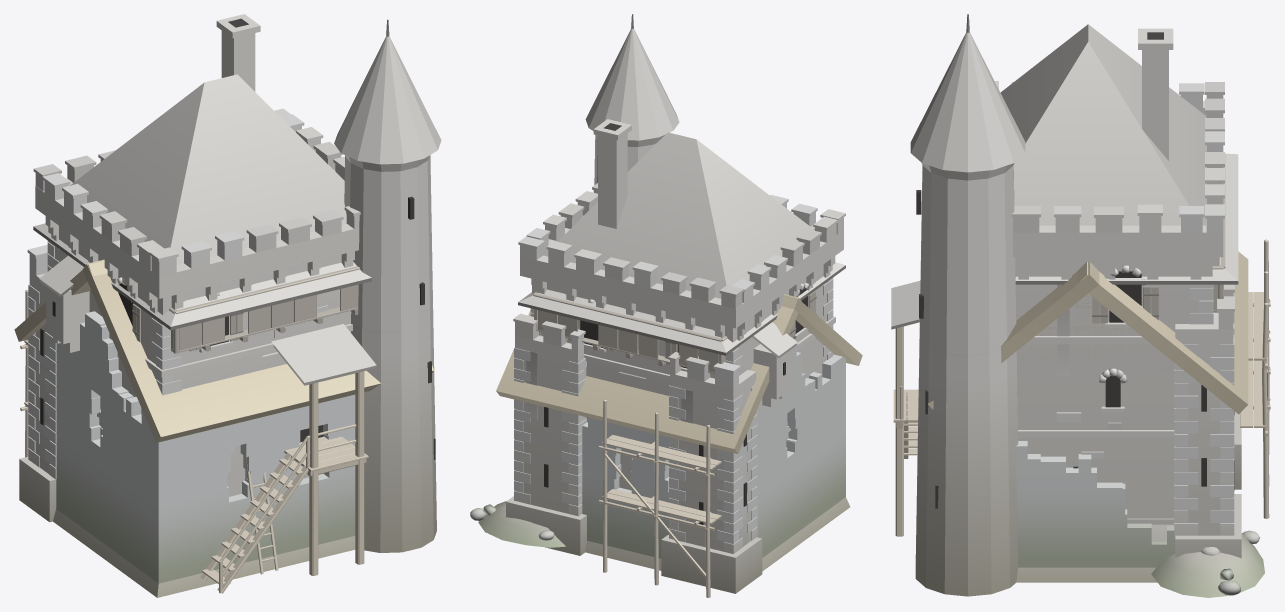
Rendered from castle_kit.glb.
3 renders of one model, left to right at view 1: azimuth 30°, elevation 25°; view 2: azimuth 150°, elevation 25°; view 3: azimuth 270°, elevation 25°, orthographic. The views are drawn at different scales.
Visible parts, largest first — view 1: ck_keep_t2, ck_keep_t1, ck_ruin_keep, ck_corner_tower, ck_gatehouse, ck_bell_tower; view 2: ck_keep_t2, ck_gatehouse, ck_keep_t1, ck_ruin_keep, ck_corner_tower; view 3: ck_keep_t2, ck_ruin_keep, ck_keep_t1, ck_gatehouse, ck_corner_tower.
Boxes of the visible parts, x1,y1,x2,y2 form: ck_keep_t2: [33, 14, 441, 597]; ck_keep_t1: [14, 259, 434, 583]; ck_ruin_keep: [35, 311, 355, 583]; ck_corner_tower: [33, 223, 371, 353]; ck_gatehouse: [19, 244, 56, 522]; ck_bell_tower: [245, 457, 278, 574]; ck_keep_t2: [518, 14, 850, 571]; ck_gatehouse: [506, 313, 762, 593]; ck_keep_t1: [496, 294, 862, 597]; ck_ruin_keep: [470, 347, 845, 558]; ck_corner_tower: [518, 262, 845, 374]; ck_keep_t2: [891, 14, 1224, 596]; ck_ruin_keep: [1016, 454, 1264, 597]; ck_keep_t1: [928, 239, 1270, 558]; ck_gatehouse: [1174, 284, 1241, 558]; ck_corner_tower: [1015, 153, 1238, 312].
Size of the model in its own units: 9.79 by 15.06 by 9.15.
